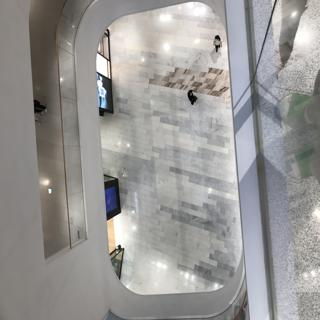person: (179, 83, 205, 110), (210, 28, 227, 62)
